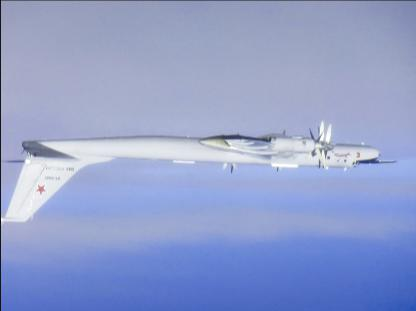Su57: (1, 120, 397, 225)
